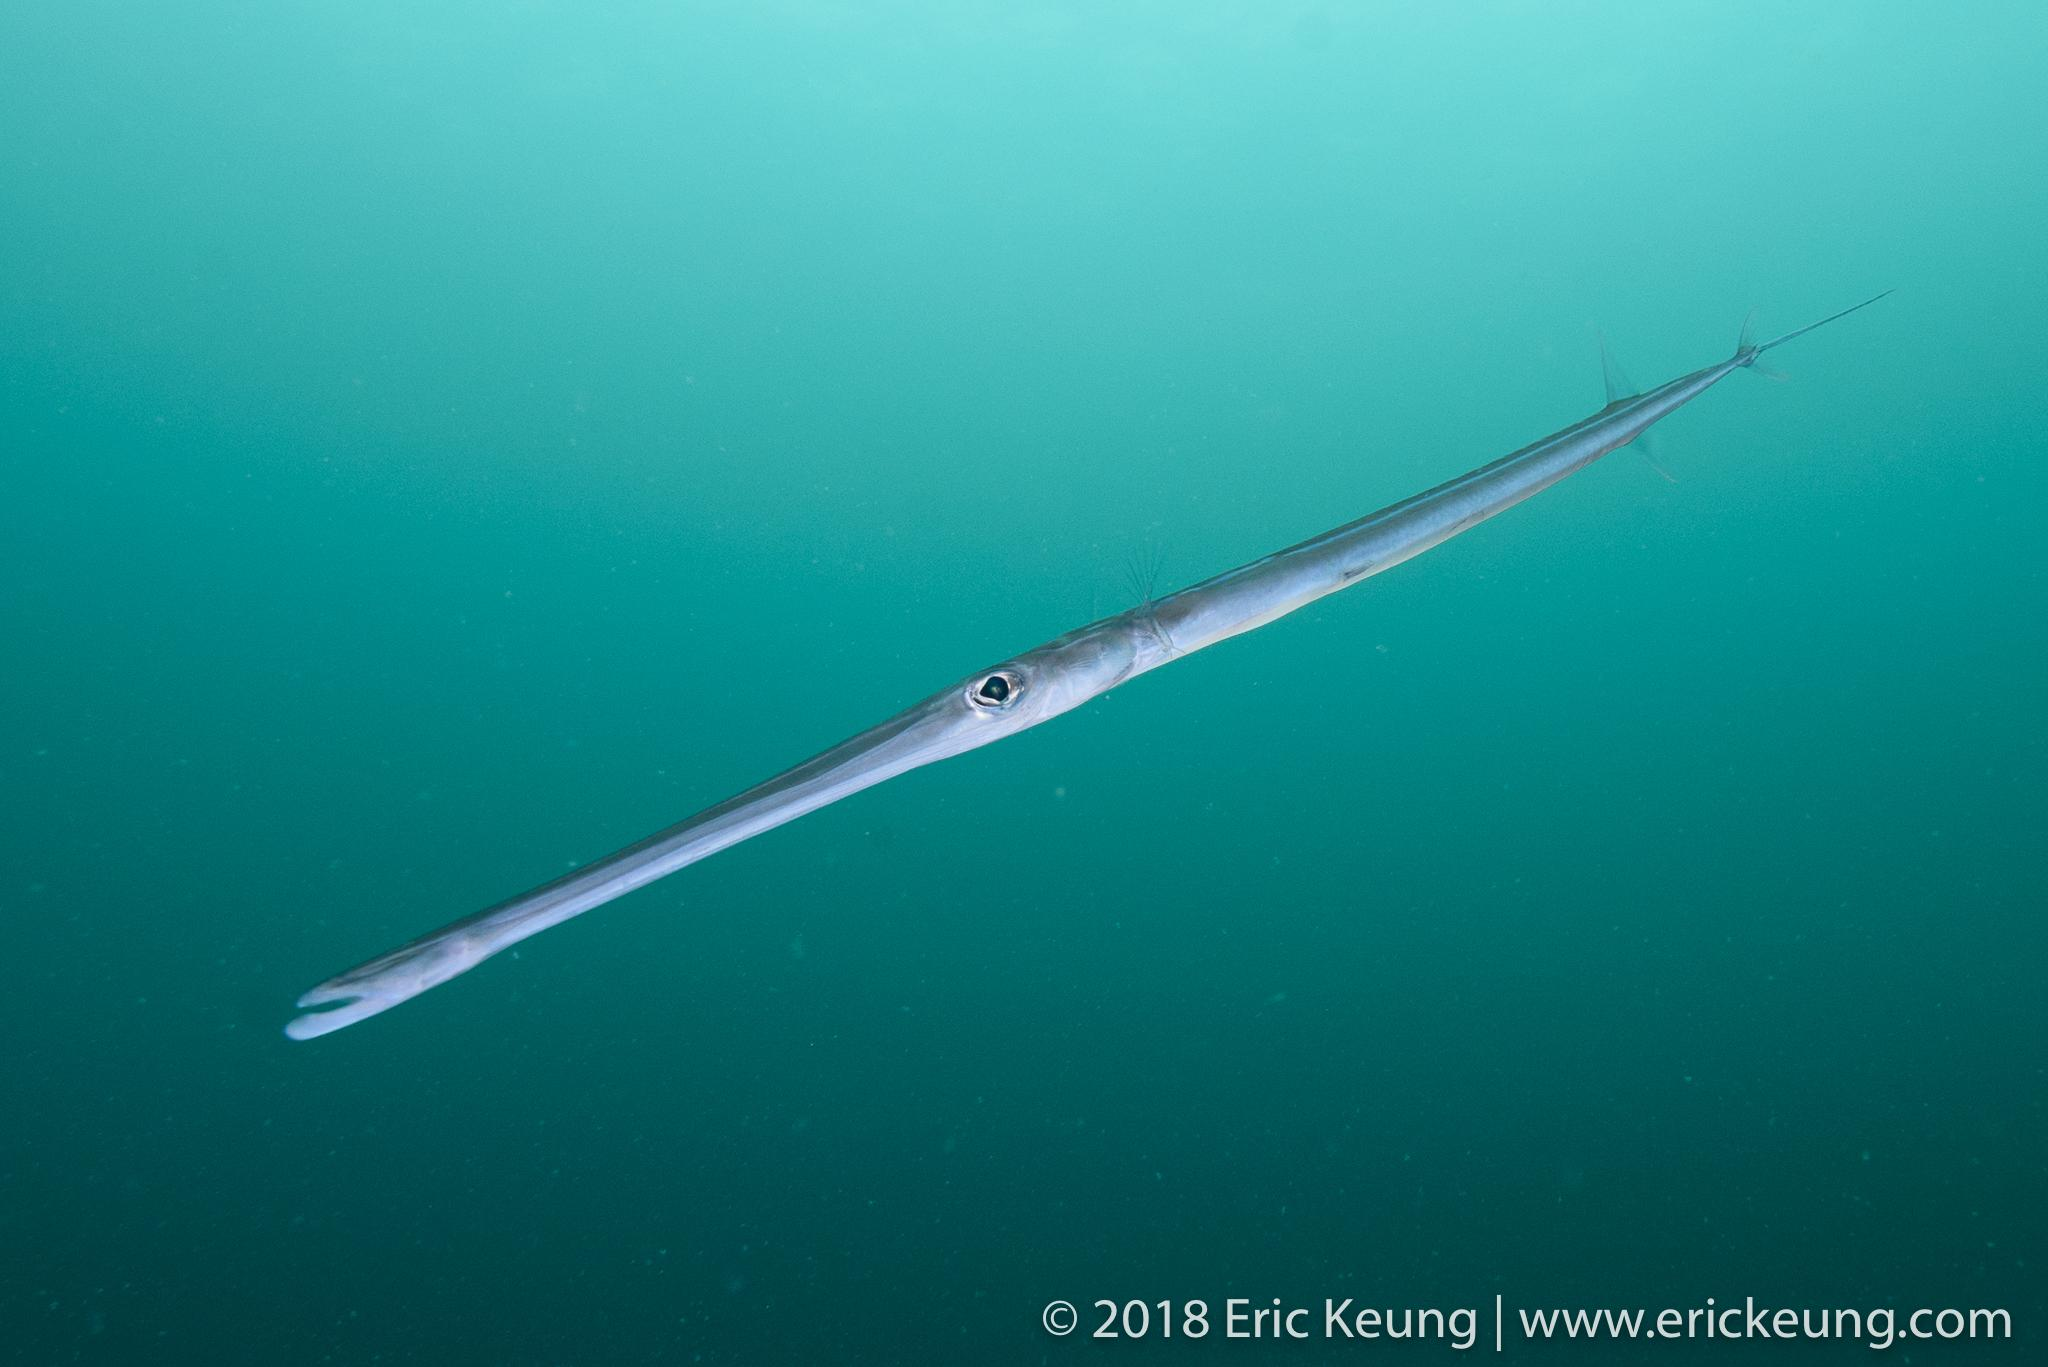Fistularia commersonii: (279, 282, 1892, 1045)
